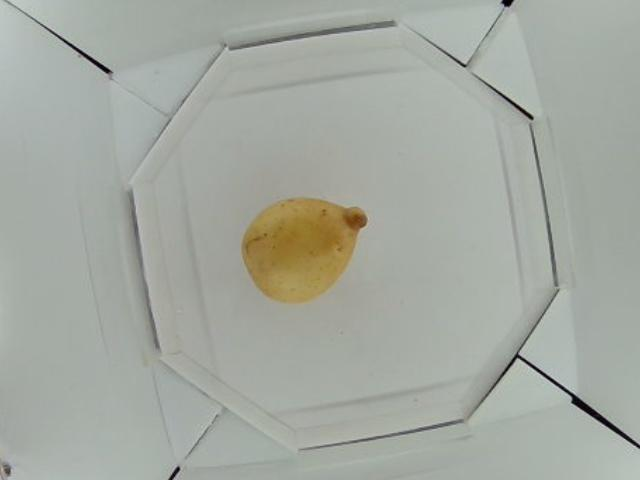Potato: (242, 193, 368, 310)
